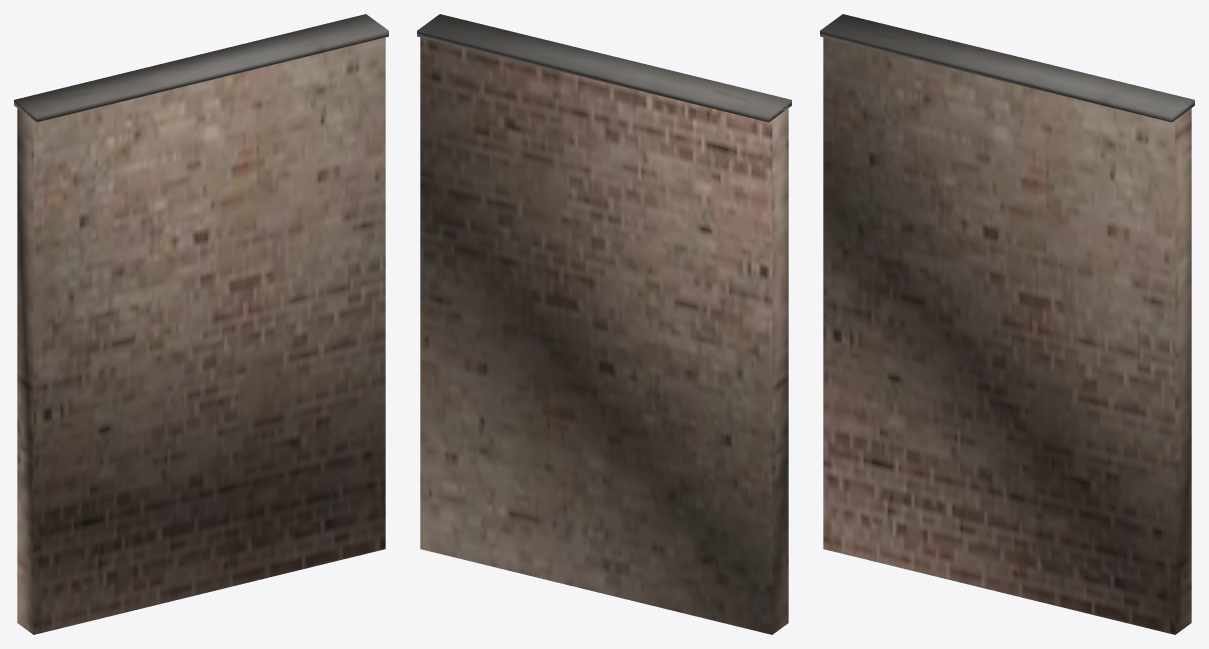
Rendered from Wall_1.glb.
3 views of the same model, side by side, from view 1: azimuth 30°, elevation 25°; view 2: azimuth 150°, elevation 25°; view 3: azimuth 330°, elevation 25° (orthographic).
Visible parts, largest first — view 1: Wall_1; view 2: Wall_1; view 3: Wall_1.
Part boxes in pixels (x1,y1,x2,y2): Wall_1: (14,14,388,634); Wall_1: (417,14,791,634); Wall_1: (820,14,1194,634).
Bounding box in the file's own units: 5.2 × 7.34 × 0.5838.
1 material, 1 textured.
